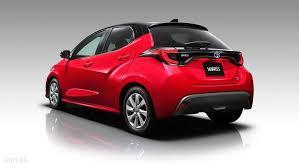Hatchback: (44, 16, 264, 136)
